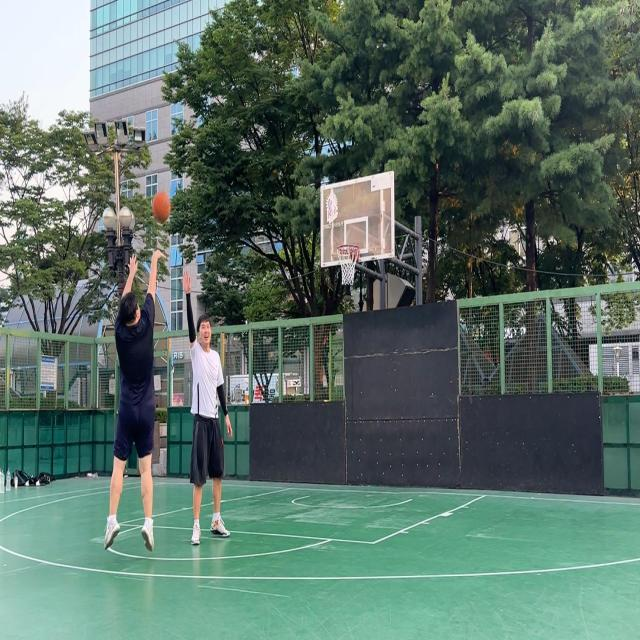basketball: (152, 190, 171, 223)
hoop: (337, 243, 359, 287)
